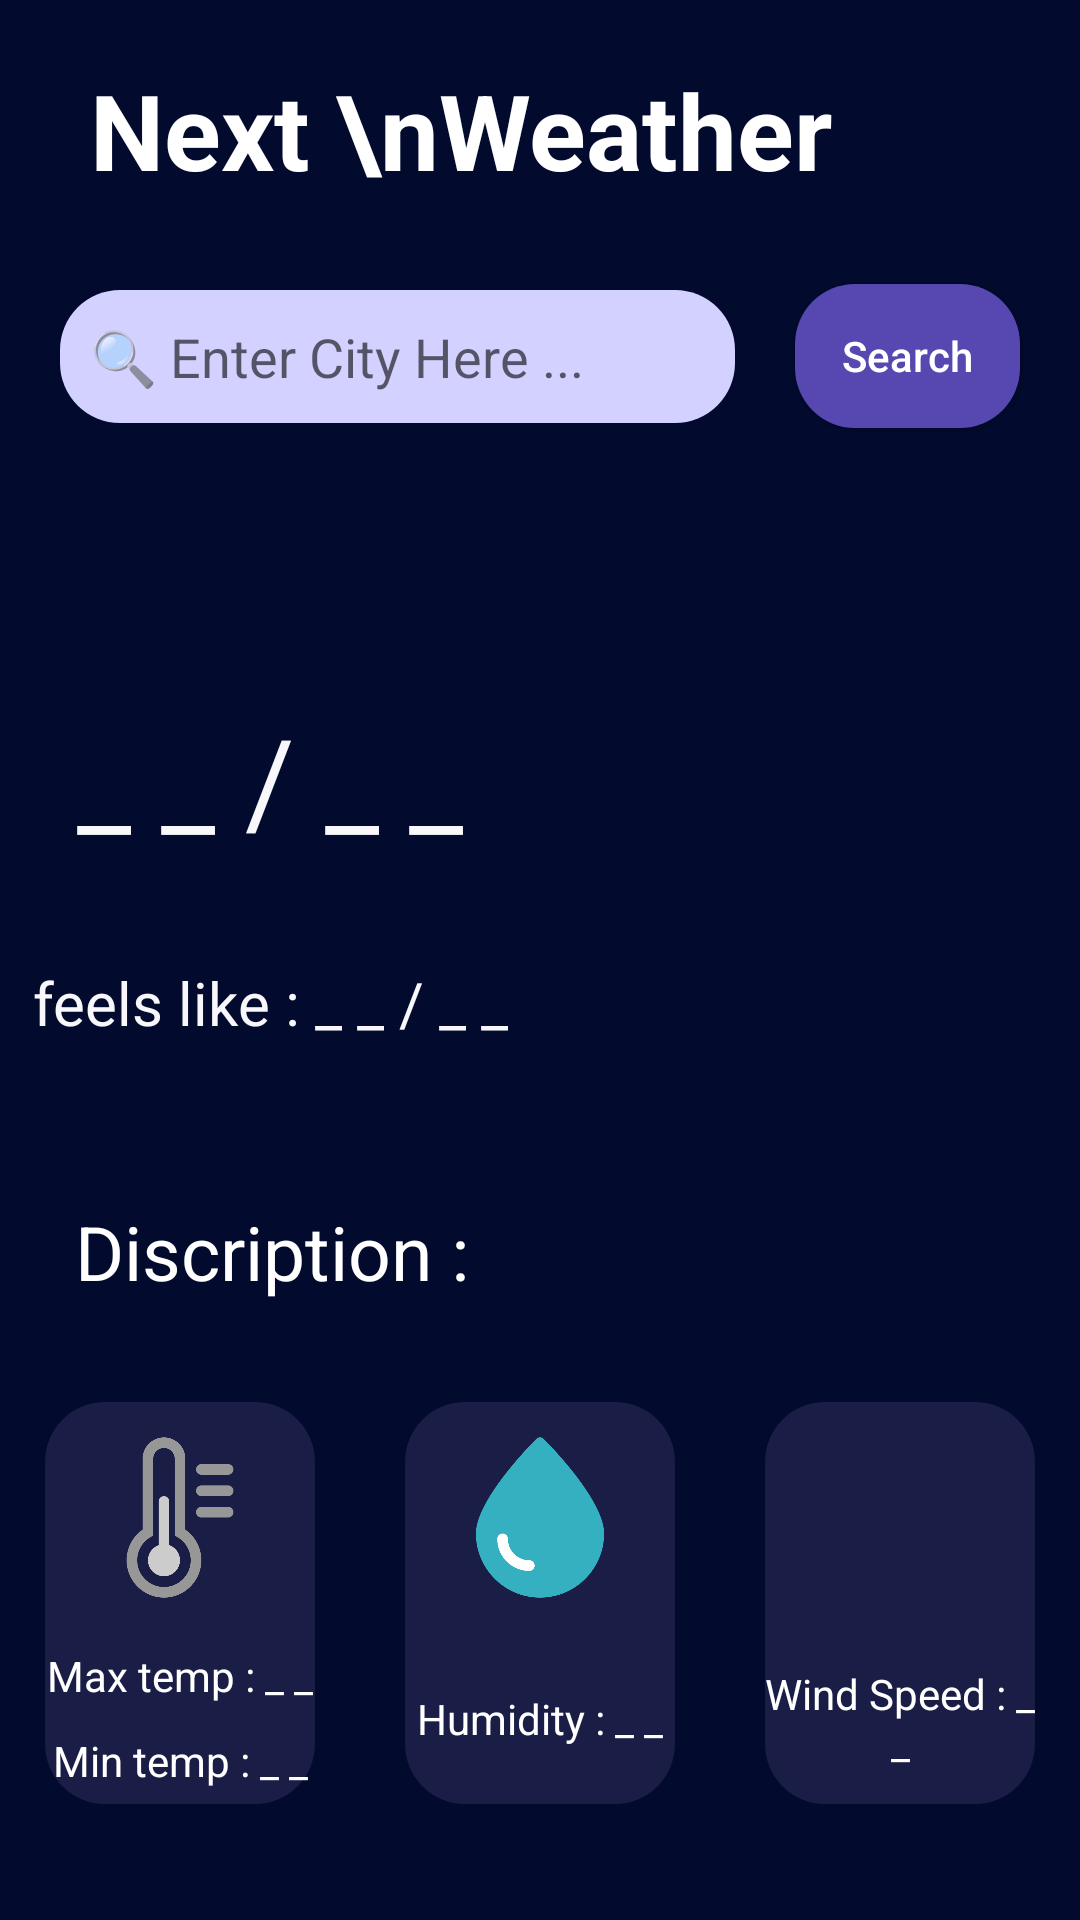

Screen size 1080px x 1920px. Icon name, then its center in pixels as [x,y]:
temperature: [180,1517]
